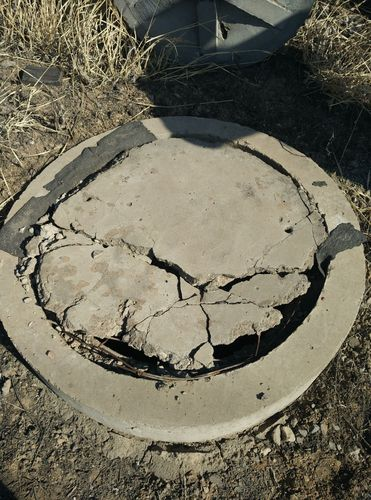broke: (11, 113, 354, 435)
